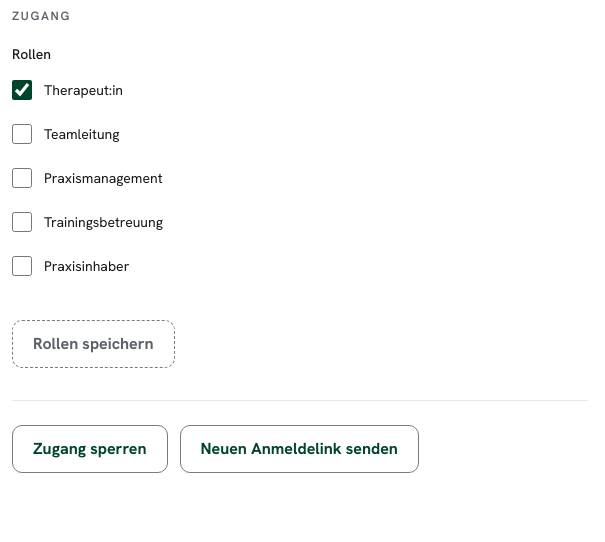
Test: StaffAccountSection - bestehender Zugang › erklärt den Aussperrschutz, statt nur zu scheitern
Click the checkbox labelled "Praxisinhaber" at (22, 266), box [12,256,32,276]
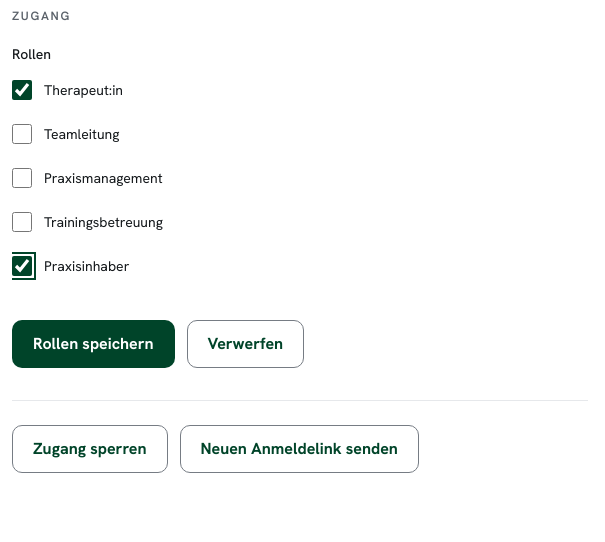
Click the button "Rollen speichern" at (93, 344), box [12,320,174,368]
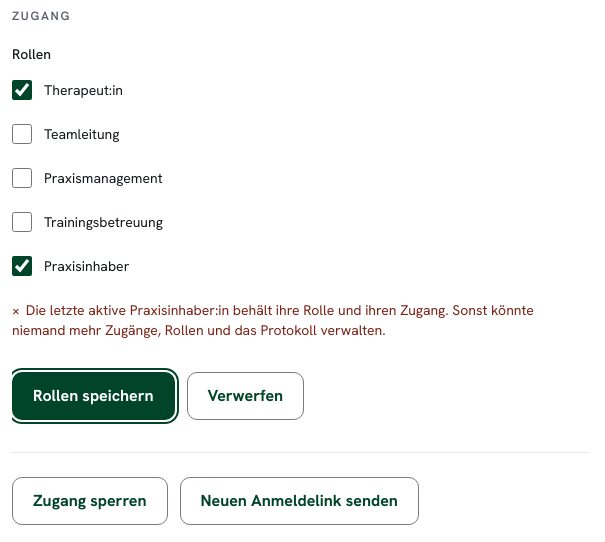
Expected: the text "Die letzte aktive Praxisinhaber:in behält ihre Rolle" is shown, [12,301,534,339]
